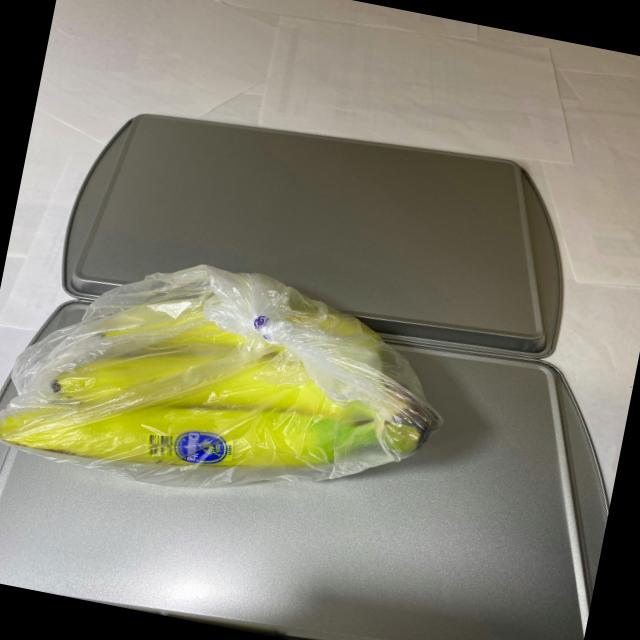banana: (0, 236, 459, 543)
